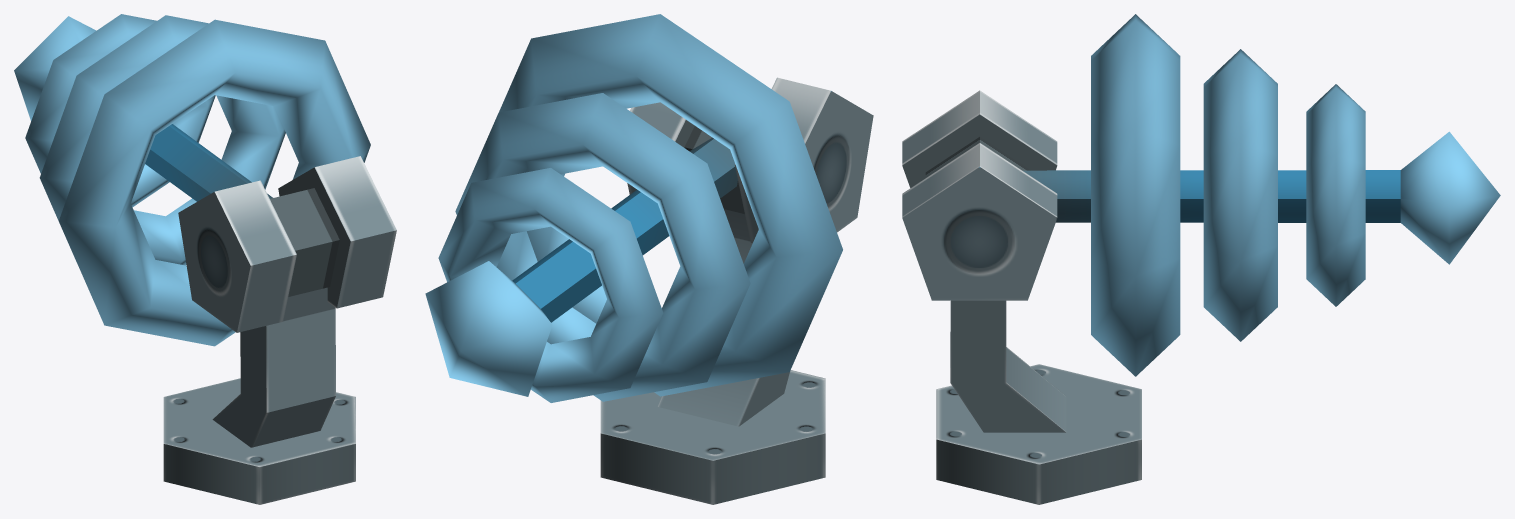
File: item_smoke_skill.FBX
3 views of the same model, side by side, from view 1: azimuth 30°, elevation 25°; view 2: azimuth 150°, elevation 25°; view 3: azimuth 270°, elevation 25° (orthographic). The views are drawn at different scales.
Parts seen in each view (by area): view 1: item_smoke_skill; view 2: item_smoke_skill; view 3: item_smoke_skill.
Boxes of the visible parts, x1=… form: item_smoke_skill: x1=14, y1=14, x2=396, y2=504; item_smoke_skill: x1=425, y1=14, x2=873, y2=504; item_smoke_skill: x1=902, y1=14, x2=1500, y2=504.
Bounding box in the file's own units: 0.26 × 0.3226 × 0.4029.
